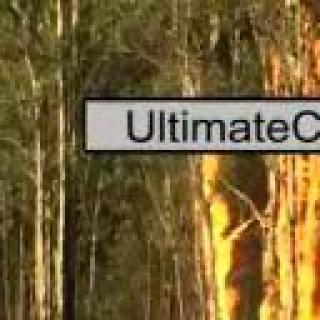fire: (189, 156, 320, 320), (260, 17, 320, 102)
